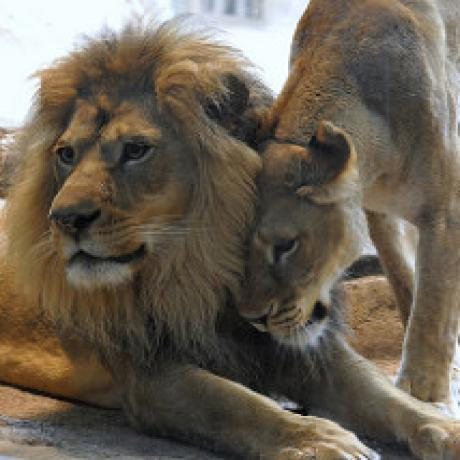Lion: (0, 0, 301, 460), (240, 0, 460, 404)
